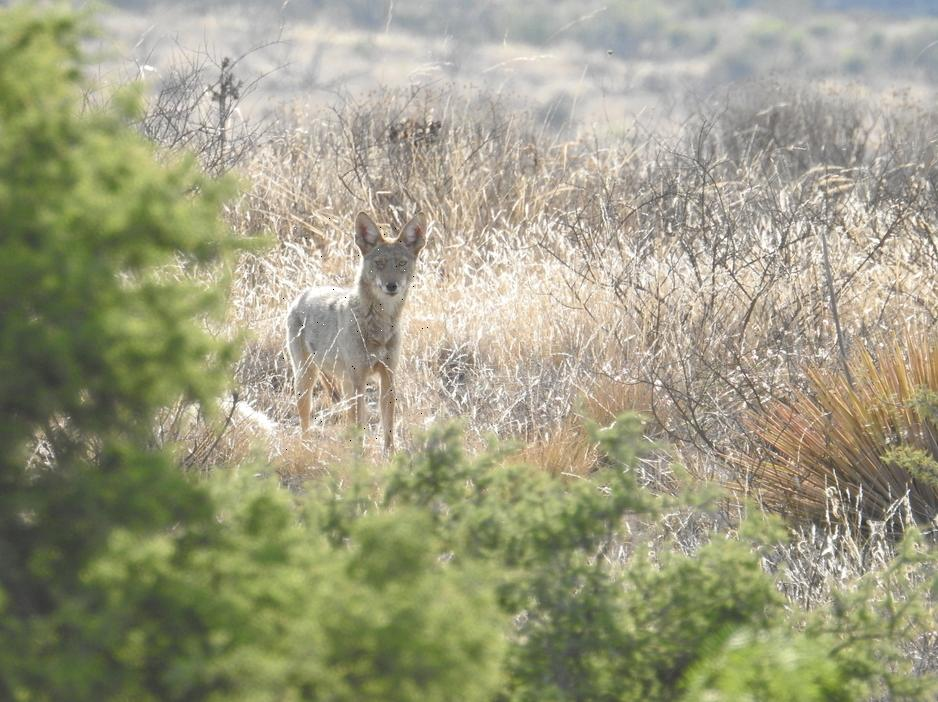Coyote: (283, 208, 428, 450)
